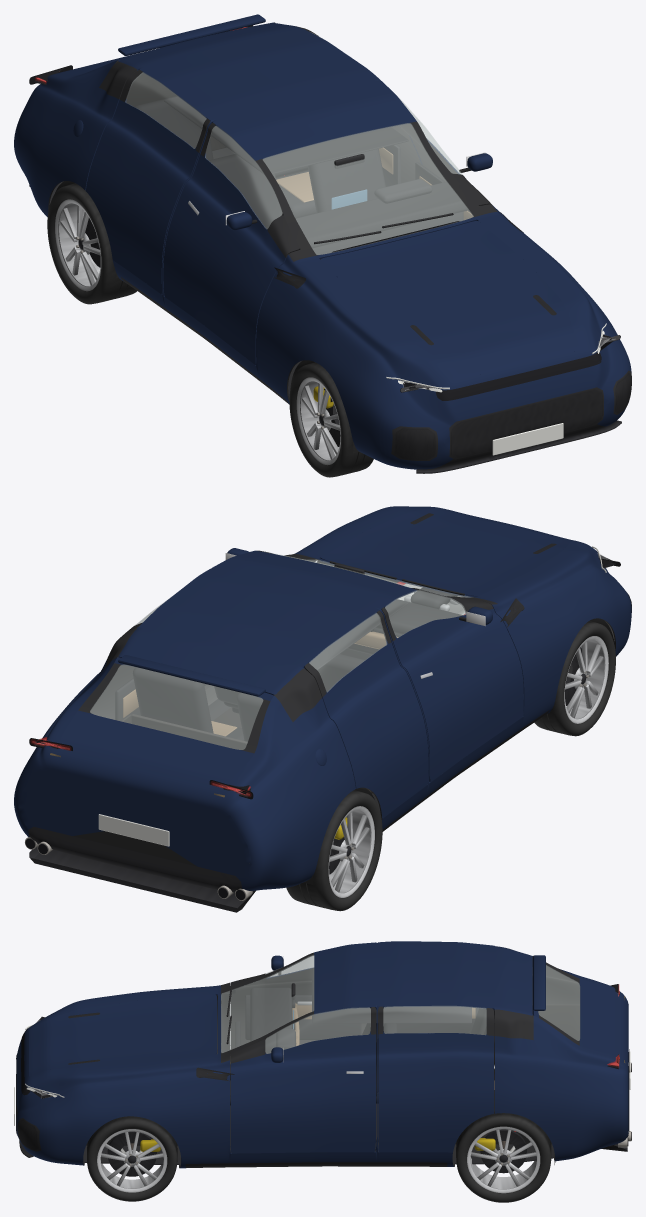
Rendered from purosangue.glb.
3 views of the same model, one above another, from view 1: azimuth 30°, elevation 25°; view 2: azimuth 150°, elevation 25°; view 3: azimuth 270°, elevation 25° (orthographic). The views are drawn at different scales.
Parts seen in each view (by area): view 1: Body, Hood, Windshield, Door_FR, Door_RR, Dash_Top, Grille0_Mesh, Headliner, Wheel_RR_Tire, Door_FR_Glass, Wheel_FR_Tire, Door_RR_Glass (+19 smaller); view 2: Body, Tailgate, Door_FR, Hood, Door_RR, Tailgate_Glass, Diffuser, Seat_RL_Back, Wheel_RR_Tire, Door_RR_Glass, Wheel_FR_Tire, Door_FR_Glass (+14 smaller); view 3: Body, Door_FL, Door_RL, Hood, Windshield, Tailgate, Wheel_RL_Tire, Wheel_FL_Tire, Door_RL_Glass, Door_FL_Glass, Headliner, Dash_Top (+13 smaller).
Boxes of the visible parts, x1,y1,x2,y2 form: Body: [14, 22, 631, 469]; Hood: [321, 221, 579, 379]; Windshield: [263, 123, 473, 254]; Door_FR: [163, 123, 299, 364]; Door_RR: [85, 70, 210, 294]; Dash_Top: [265, 182, 468, 249]; Grille0_Mesh: [451, 390, 602, 457]; Headliner: [164, 97, 408, 174]; Wheel_RR_Tire: [47, 183, 136, 304]; Door_FR_Glass: [205, 126, 282, 228]; Wheel_FR_Tire: [289, 362, 373, 477]; Door_RR_Glass: [125, 72, 206, 148]; Body: [14, 506, 631, 892]; Tailgate: [57, 657, 273, 824]; Door_FR: [381, 598, 523, 782]; Hood: [320, 508, 573, 596]; Door_RR: [304, 610, 428, 818]; Tailgate_Glass: [90, 664, 262, 749]; Diffuser: [28, 827, 255, 912]; Seat_RL_Back: [132, 667, 213, 733]; Wheel_RR_Tire: [286, 790, 382, 911]; Door_RR_Glass: [309, 613, 386, 692]; Wheel_FR_Tire: [534, 621, 615, 736]; Door_FR_Glass: [385, 590, 465, 637]; Body: [16, 941, 628, 1168]; Door_FL: [230, 1007, 375, 1153]; Door_RL: [378, 1006, 494, 1152]; Hood: [29, 994, 217, 1076]; Windshield: [221, 955, 313, 1052]; Tailgate: [533, 956, 628, 1065]; Wheel_RL_Tire: [456, 1111, 551, 1202]; Wheel_FL_Tire: [87, 1116, 177, 1201]; Door_RL_Glass: [383, 1006, 486, 1034]; Door_FL_Glass: [265, 1007, 370, 1053]; Headliner: [312, 968, 471, 1023]; Dash_Top: [250, 987, 292, 1053].
Size of the model in its own units: 2.04 by 1.61 by 5.02.
